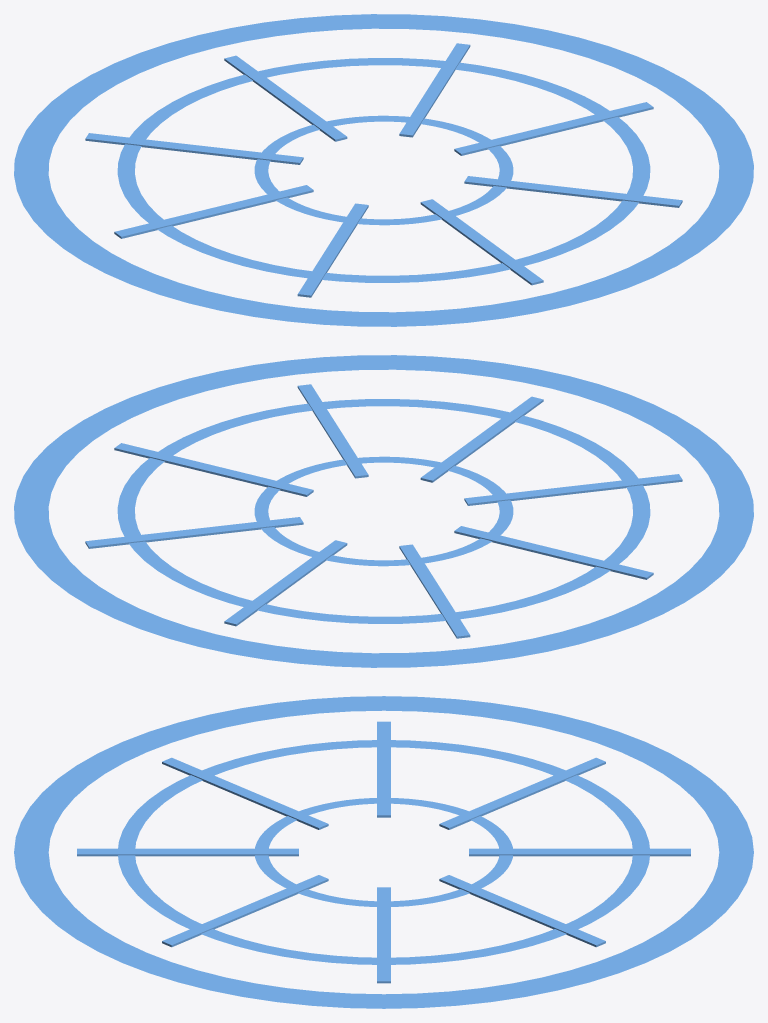
The model's file is Seal_Start.fbx.
3 views of the same model, one above another, from view 1: azimuth 30°, elevation 25°; view 2: azimuth 150°, elevation 25°; view 3: azimuth 270°, elevation 25° (orthographic).
Parts seen in each view (by area): view 1: Seal_Start; view 2: Seal_Start; view 3: Seal_Start.
Part boxes in pixels (x1=…): Seal_Start: x1=14, y1=14, x2=753, y2=326; Seal_Start: x1=14, y1=355, x2=753, y2=667; Seal_Start: x1=14, y1=696, x2=753, y2=1008.
Bounding box in the file's own units: 6.4 × 0.02 × 6.4.
